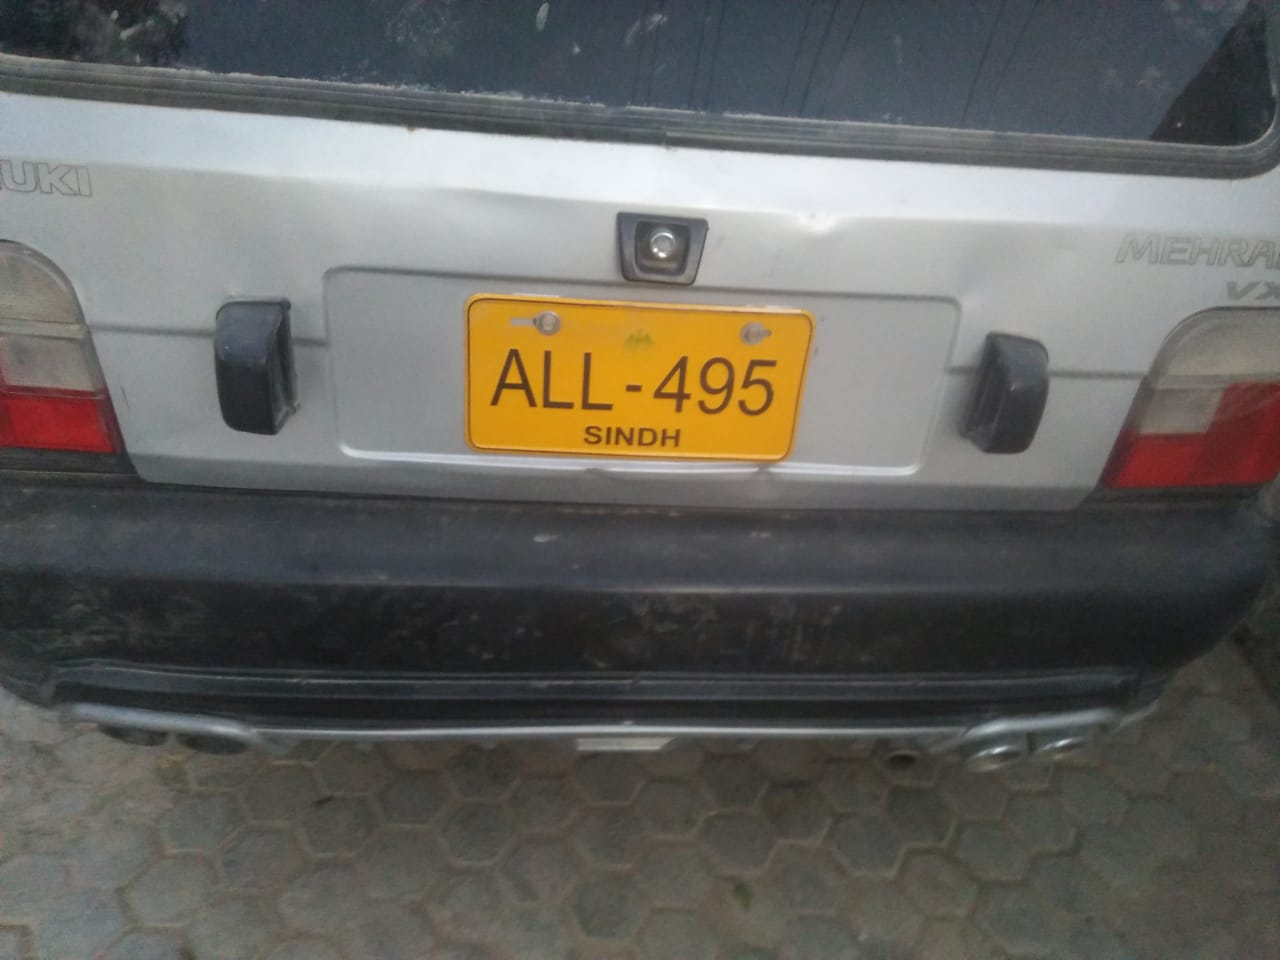license plate: (463, 293, 802, 462)
